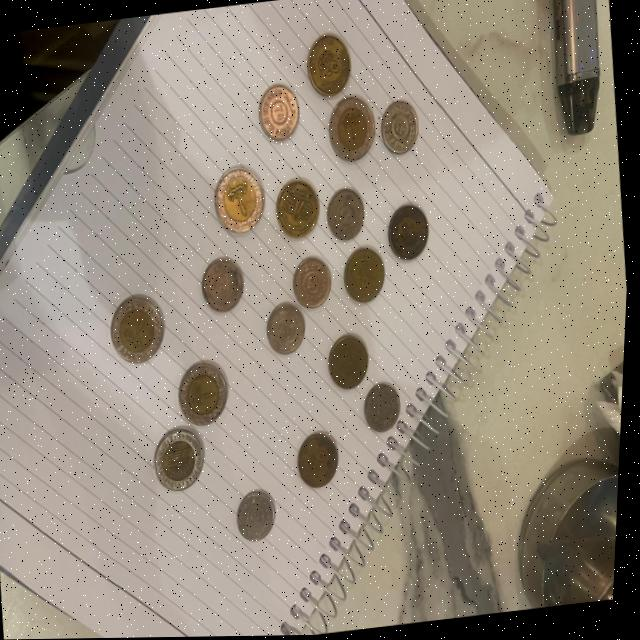Half Pound: (304, 28, 357, 113), (272, 166, 326, 241), (329, 325, 379, 388), (347, 241, 391, 310), (297, 428, 345, 489), (391, 200, 433, 263)
One Pound: (106, 282, 174, 375), (211, 151, 275, 240), (313, 94, 382, 173), (153, 422, 218, 505), (174, 354, 242, 428), (308, 34, 351, 96)
quarter pound: (193, 247, 254, 333), (244, 74, 310, 150), (382, 86, 429, 170), (323, 182, 371, 255), (236, 480, 286, 545), (363, 375, 414, 437), (266, 293, 316, 356), (294, 254, 336, 311)
